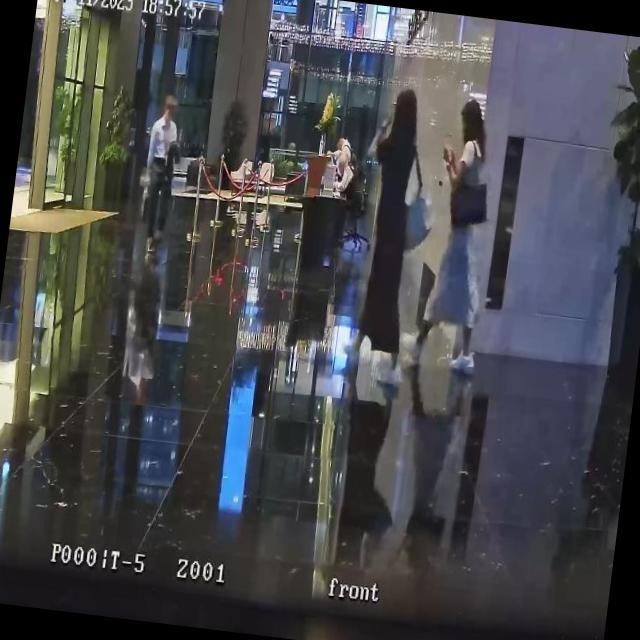person: (410, 96, 508, 375), (344, 84, 433, 362), (136, 91, 185, 244), (331, 154, 362, 212), (332, 134, 354, 164)
